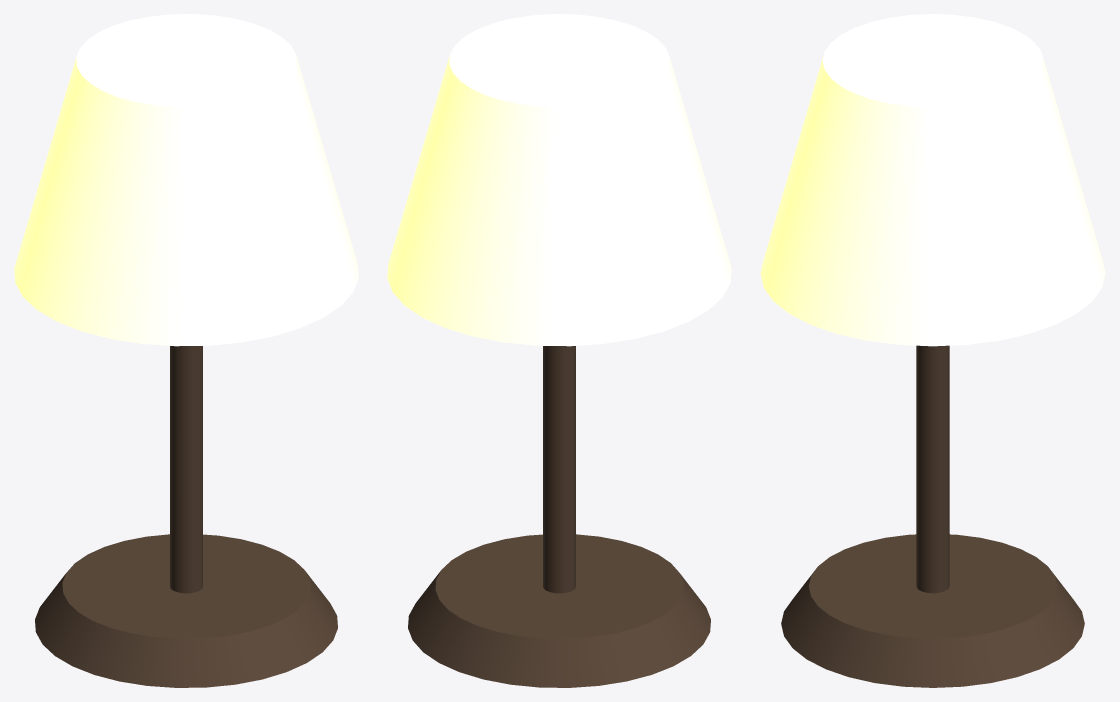
The model's file is lamp.glb.
3 views of the same model, side by side, from view 1: azimuth 30°, elevation 25°; view 2: azimuth 150°, elevation 25°; view 3: azimuth 270°, elevation 25° (orthographic).
Parts seen in each view (by area): view 1: shade, base, stem; view 2: shade, base, stem; view 3: shade, base, stem.
Boxes of the visible parts, x1,y1,x2,y2 form: shade: (14,14,358,346); base: (35,534,337,687); stem: (170,346,202,593); shade: (387,14,731,346); base: (408,534,710,687); stem: (543,346,575,593); shade: (760,14,1105,346); base: (781,534,1084,687); stem: (916,345,949,593).
Size of the model in its own units: 0.25 by 0.45 by 0.25.
